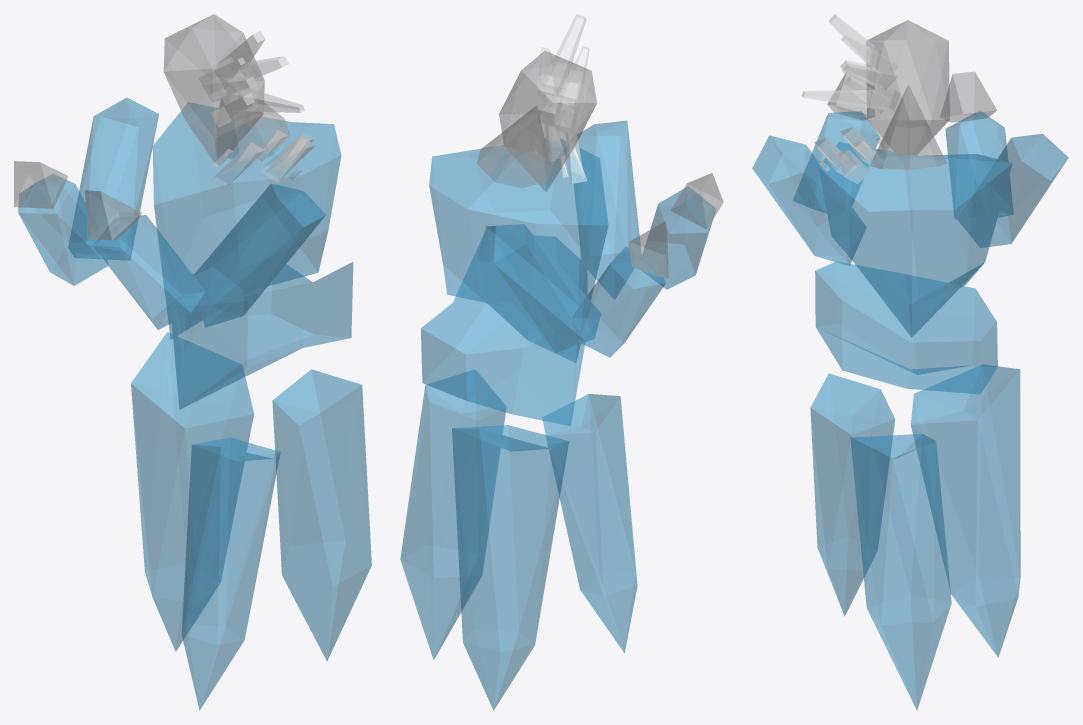
Rendered from ghostDistanceAttack17.obj.
3 views of the same model, side by side, from view 1: azimuth 30°, elevation 25°; view 2: azimuth 150°, elevation 25°; view 3: azimuth 270°, elevation 25° (orthographic). The views are drawn at different scales.
Visible parts, largest first — view 1: Cube.001_Cube.007, Icosphere.020, Icosphere.019, Icosphere.018, Cube_Cube.007, Icosphere.003_Icosphere.007, Icosphere.005_Icosphere.007, Icosphere.007_Icosphere.006, Icosphere.006_Icosphere.006, Icosphere.008_Icosphere.006, Cone_Cone.007, Cube.003_Cube.007 (+10 smaller); view 2: Cube.001_Cube.007, Icosphere.020, Icosphere.019, Cube_Cube.007, Icosphere.018, Icosphere.003_Icosphere.007, Icosphere.005_Icosphere.007, Icosphere.007_Icosphere.006, Icosphere.008_Icosphere.006, Icosphere.006_Icosphere.006, Cone_Cone.007, Cube.002_Cube.007 (+5 smaller); view 3: Cube.001_Cube.007, Icosphere.020, Icosphere.019, Cube_Cube.007, Icosphere.018, Icosphere.003_Icosphere.007, Icosphere.005_Icosphere.007, Icosphere.007_Icosphere.006, Icosphere.008_Icosphere.006, Icosphere.006_Icosphere.006, Cone_Cone.007, Cube.003_Cube.007 (+6 smaller).
Boxes of the visible parts, x1,y1,x2,y2 form: Cube.001_Cube.007: (152,102,341,339); Icosphere.020: (131,332,253,651); Icosphere.019: (272,369,371,660); Icosphere.018: (181,437,280,710); Cube_Cube.007: (172,262,353,409); Icosphere.003_Icosphere.007: (163,14,264,161); Icosphere.005_Icosphere.007: (193,183,325,327); Icosphere.007_Icosphere.006: (68,97,158,260); Icosphere.006_Icosphere.006: (93,215,205,329); Icosphere.008_Icosphere.006: (18,174,107,285); Cone_Cone.007: (214,99,290,158); Cube.003_Cube.007: (14,161,67,208); Cube.001_Cube.007: (429,138,608,362); Icosphere.020: (452,425,569,710); Icosphere.019: (400,370,506,659); Cube_Cube.007: (421,236,587,426); Icosphere.018: (543,394,637,652); Icosphere.003_Icosphere.007: (499,51,596,191); Icosphere.005_Icosphere.007: (574,120,641,299); Icosphere.007_Icosphere.006: (476,224,600,352); Icosphere.008_Icosphere.006: (572,247,665,357); Icosphere.006_Icosphere.006: (642,187,715,289); Cone_Cone.007: (477,105,549,187); Cube.002_Cube.007: (670,173,723,229); Cube.001_Cube.007: (818,142,1012,337); Icosphere.020: (910,365,1020,657); Icosphere.019: (850,433,951,710); Cube_Cube.007: (815,261,997,394); Icosphere.018: (810,373,895,616); Icosphere.003_Icosphere.007: (866,20,949,156); Icosphere.005_Icosphere.007: (752,135,866,265); Icosphere.007_Icosphere.006: (958,133,1068,247); Icosphere.008_Icosphere.006: (945,111,1013,218); Icosphere.006_Icosphere.006: (793,111,880,212); Cone_Cone.007: (870,85,946,169); Cube.003_Cube.007: (940,71,996,122).
Size of the model in its own units: 20.92 by 44.5 by 19.83.
